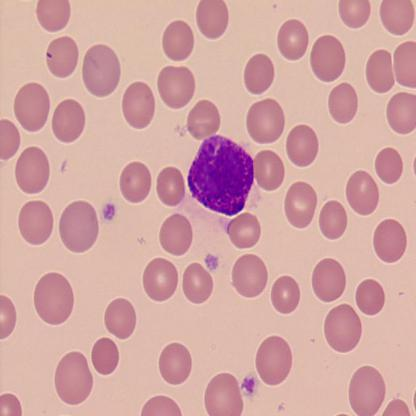Basophil: (186, 132, 256, 222)
